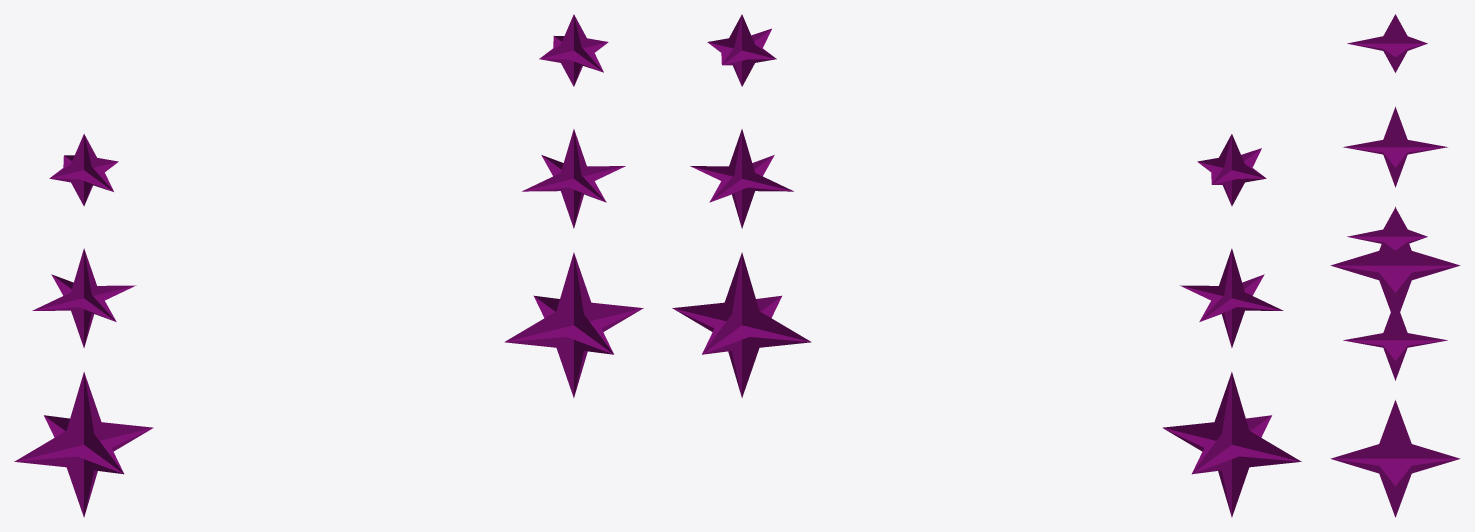
File: gfx_167.obj
3 renders of one model, left to right at view 1: azimuth 30°, elevation 25°; view 2: azimuth 150°, elevation 25°; view 3: azimuth 270°, elevation 25°, orthographic. The views are drawn at different scales.
Size of the model in its own units: 1.12 by 0.6562 by 0.25.
